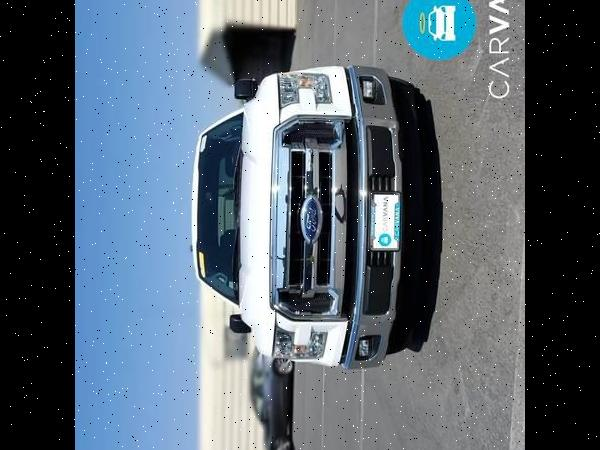Front_Bumper: (327, 65, 404, 370)
Front_Windshield: (192, 109, 245, 304)
Grille: (267, 116, 355, 321)
Hood: (238, 75, 279, 353)
Left_Headlight: (280, 66, 337, 123)
Left_Mirror: (229, 313, 249, 333)
Right_Headlight: (272, 313, 332, 362)
Right_Mirror: (235, 78, 256, 97)
